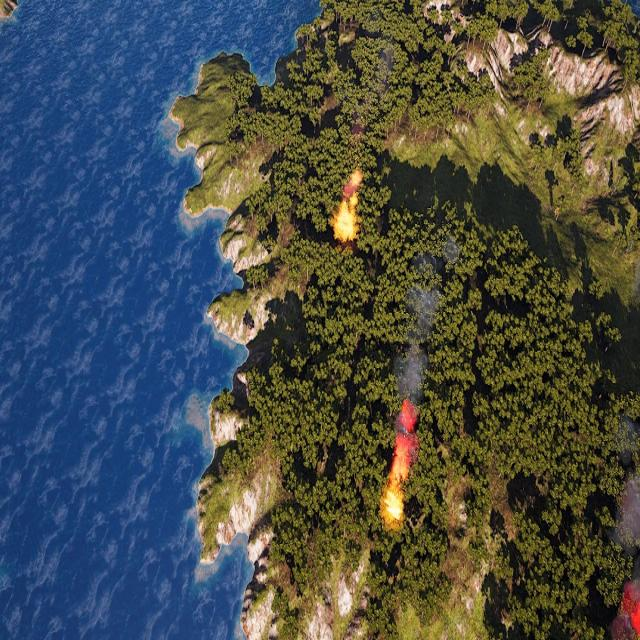fire: (334, 167, 363, 240), (384, 488, 404, 528)
smoke: (385, 241, 462, 475), (590, 403, 636, 635)
